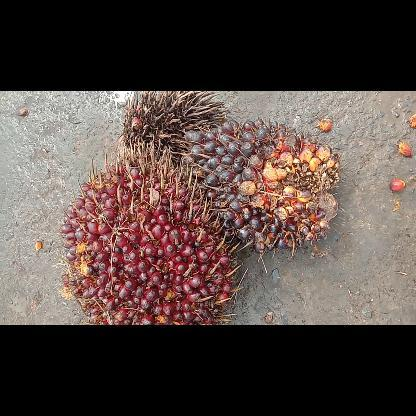Janjang kosong: (110, 91, 228, 161)
TBS masak: (60, 138, 242, 324)
TBS mentah: (184, 120, 340, 256)
